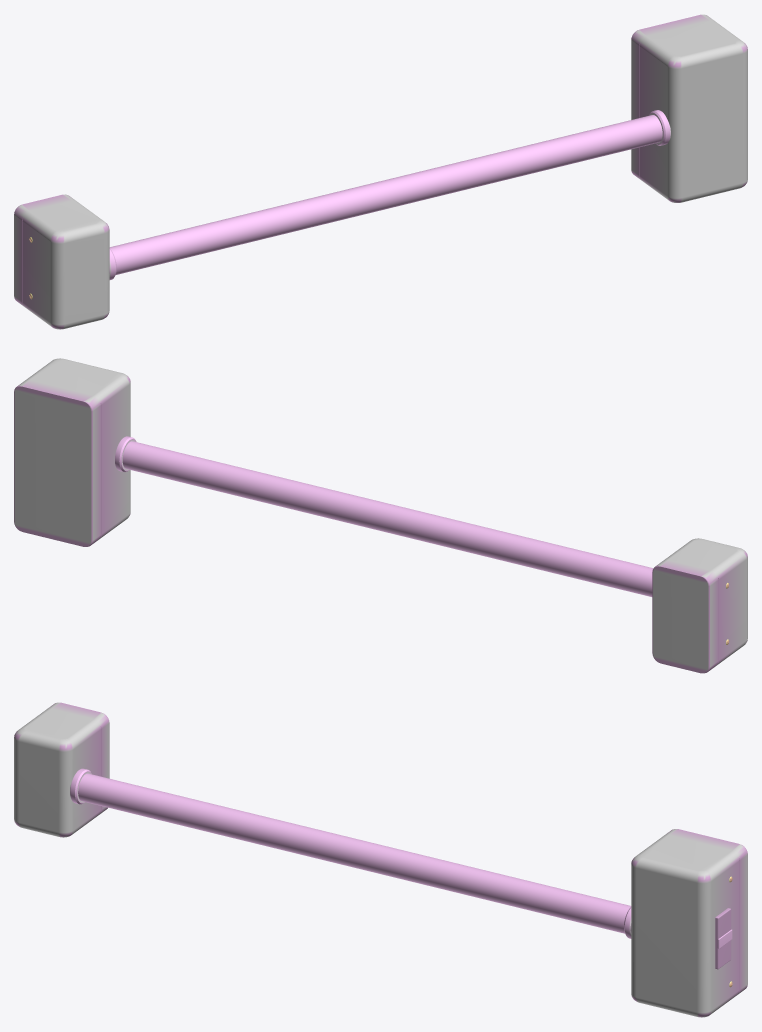
Rendered from Kit_ExitDevice_Crossbar.fbx.
3 renders of one model, top to bottom at view 1: azimuth 30°, elevation 25°; view 2: azimuth 150°, elevation 25°; view 3: azimuth 330°, elevation 25°, orthographic.
Visible parts, largest first — view 1: Kit_ExitDevice_Crossbar_LOD0; view 2: Kit_ExitDevice_Crossbar_LOD0; view 3: Kit_ExitDevice_Crossbar_LOD0.
Boxes of the visible parts, x1=… form: Kit_ExitDevice_Crossbar_LOD0: x1=14, y1=14, x2=747, y2=329; Kit_ExitDevice_Crossbar_LOD0: x1=14, y1=358, x2=747, y2=673; Kit_ExitDevice_Crossbar_LOD0: x1=14, y1=702, x2=747, y2=1017.
Size of what is drawn, in the model's own units: 0.9088 by 0.18 by 0.095.
